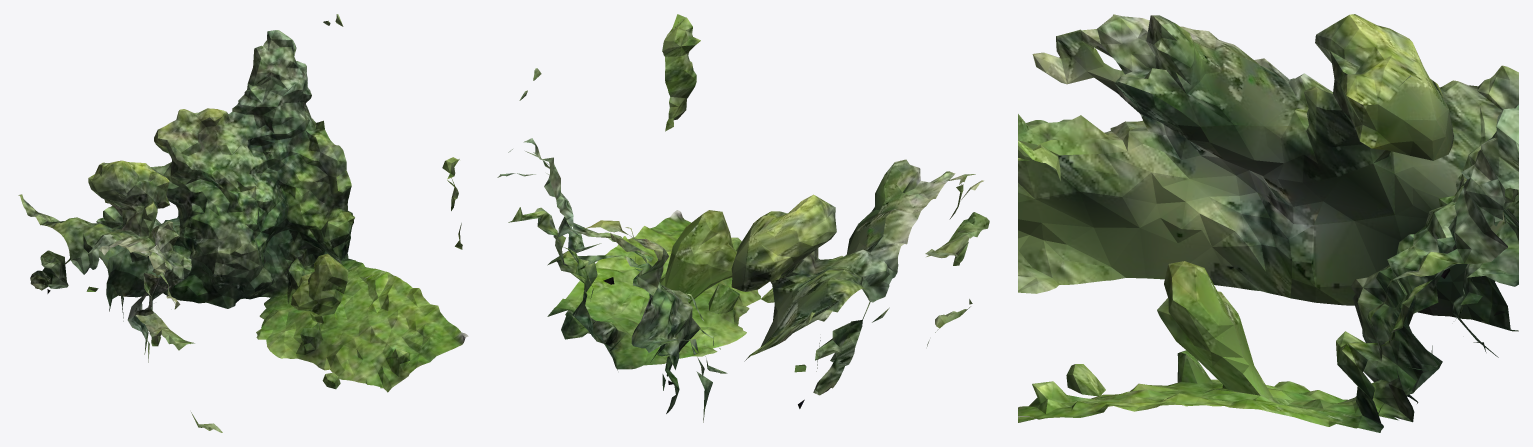
3 views of the same model, side by side, from view 1: azimuth 30°, elevation 25°; view 2: azimuth 150°, elevation 25°; view 3: azimuth 270°, elevation 25° (orthographic). The views are drawn at different scales.
Bounding box in the file's own units: 26.11 × 22.81 × 26.11.
5 materials, 5 textured.
